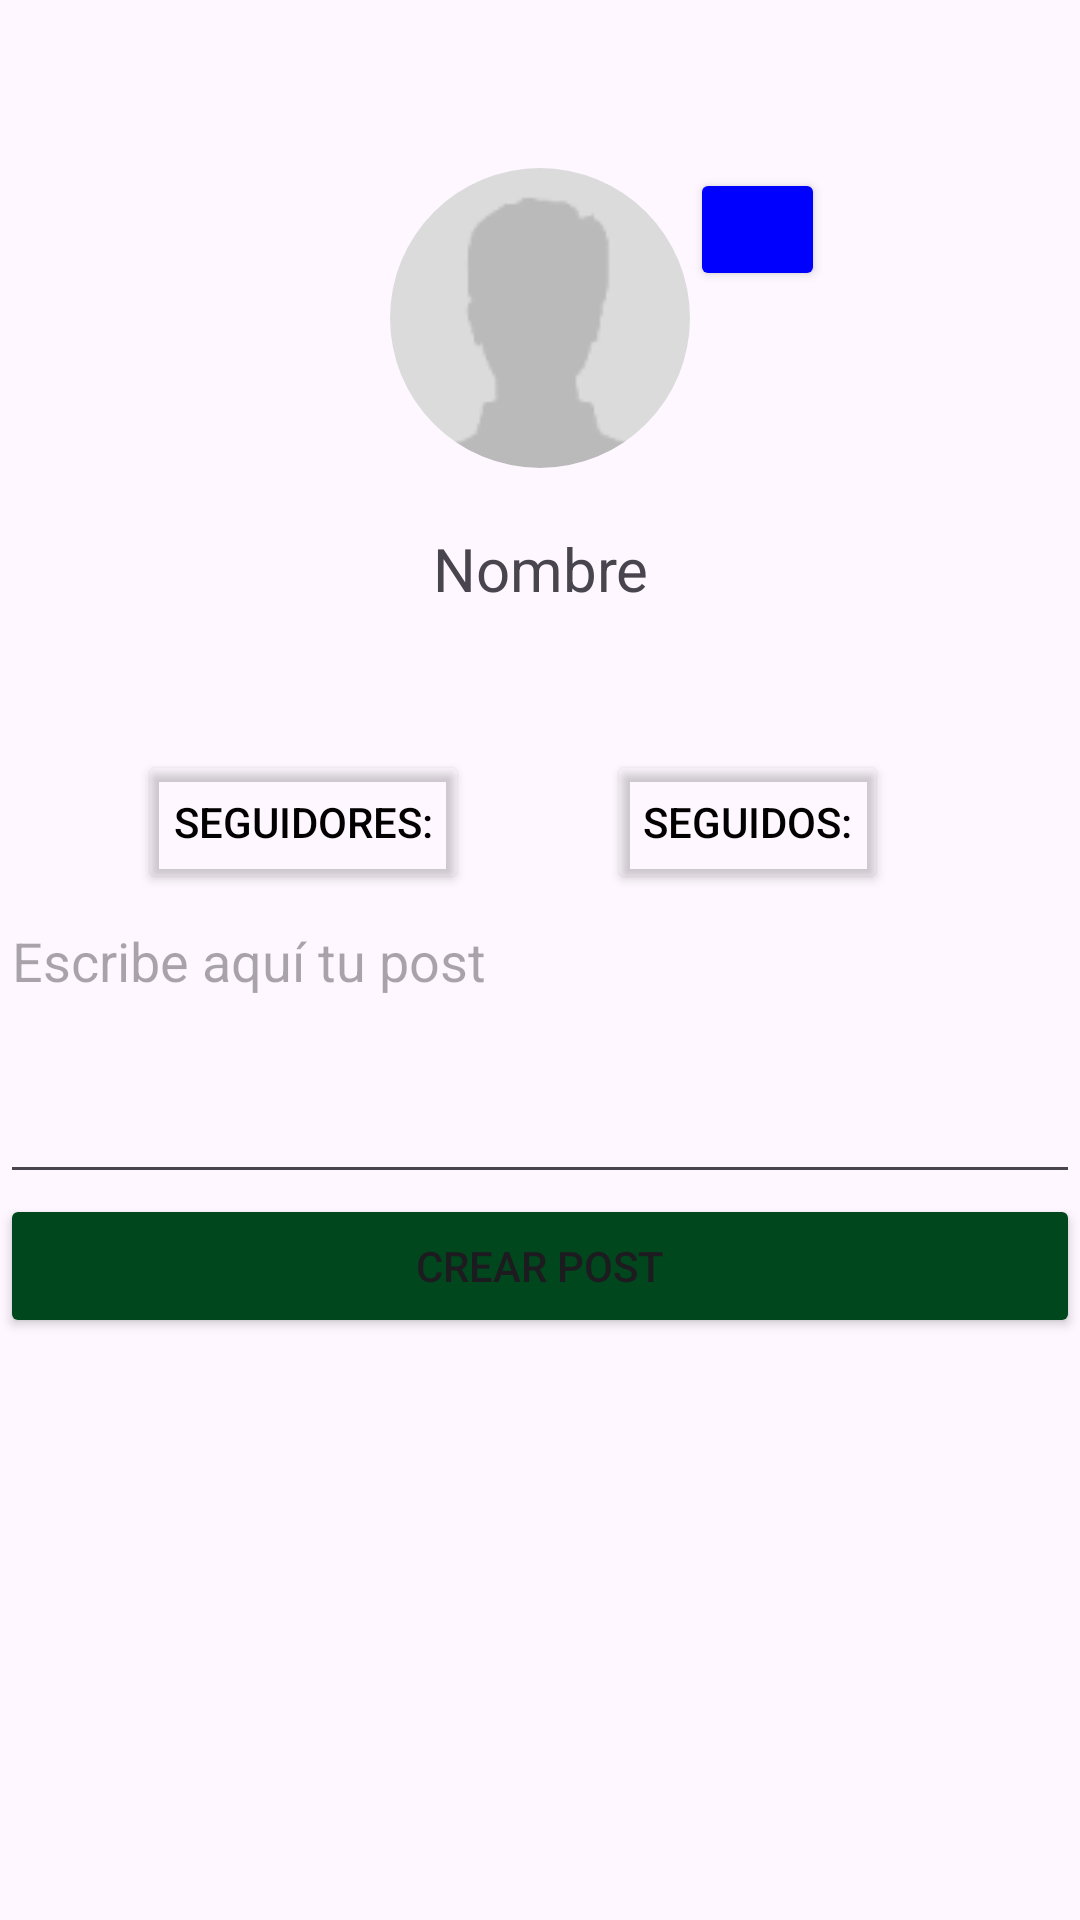

Where to tap for icons on this 1080 × 1920 app screen, as (x=x, y=y):
fotoperfil: (x=540, y=318)
